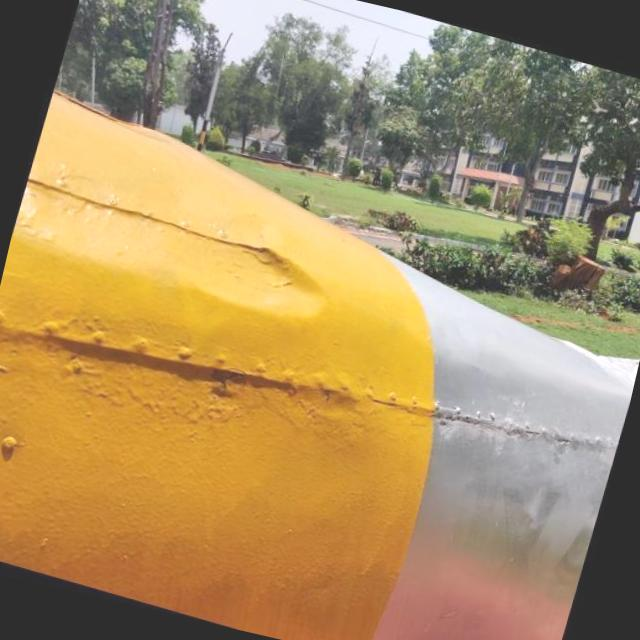dent: (147, 220, 336, 326)
